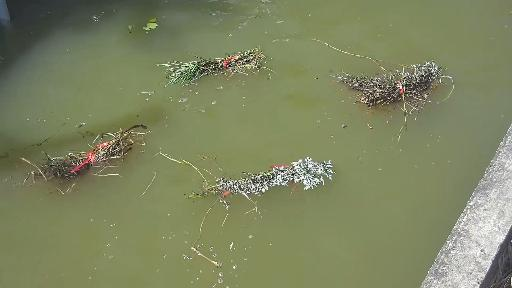leaf: (120, 14, 165, 40)
twig: (160, 142, 339, 265), (313, 38, 460, 151), (5, 116, 155, 202), (141, 48, 275, 111)
